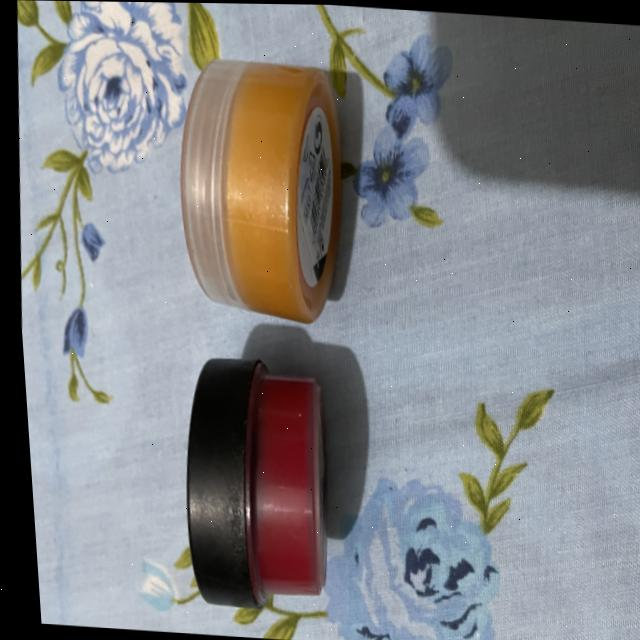lip balm: (148, 38, 360, 339), (143, 339, 343, 635)
